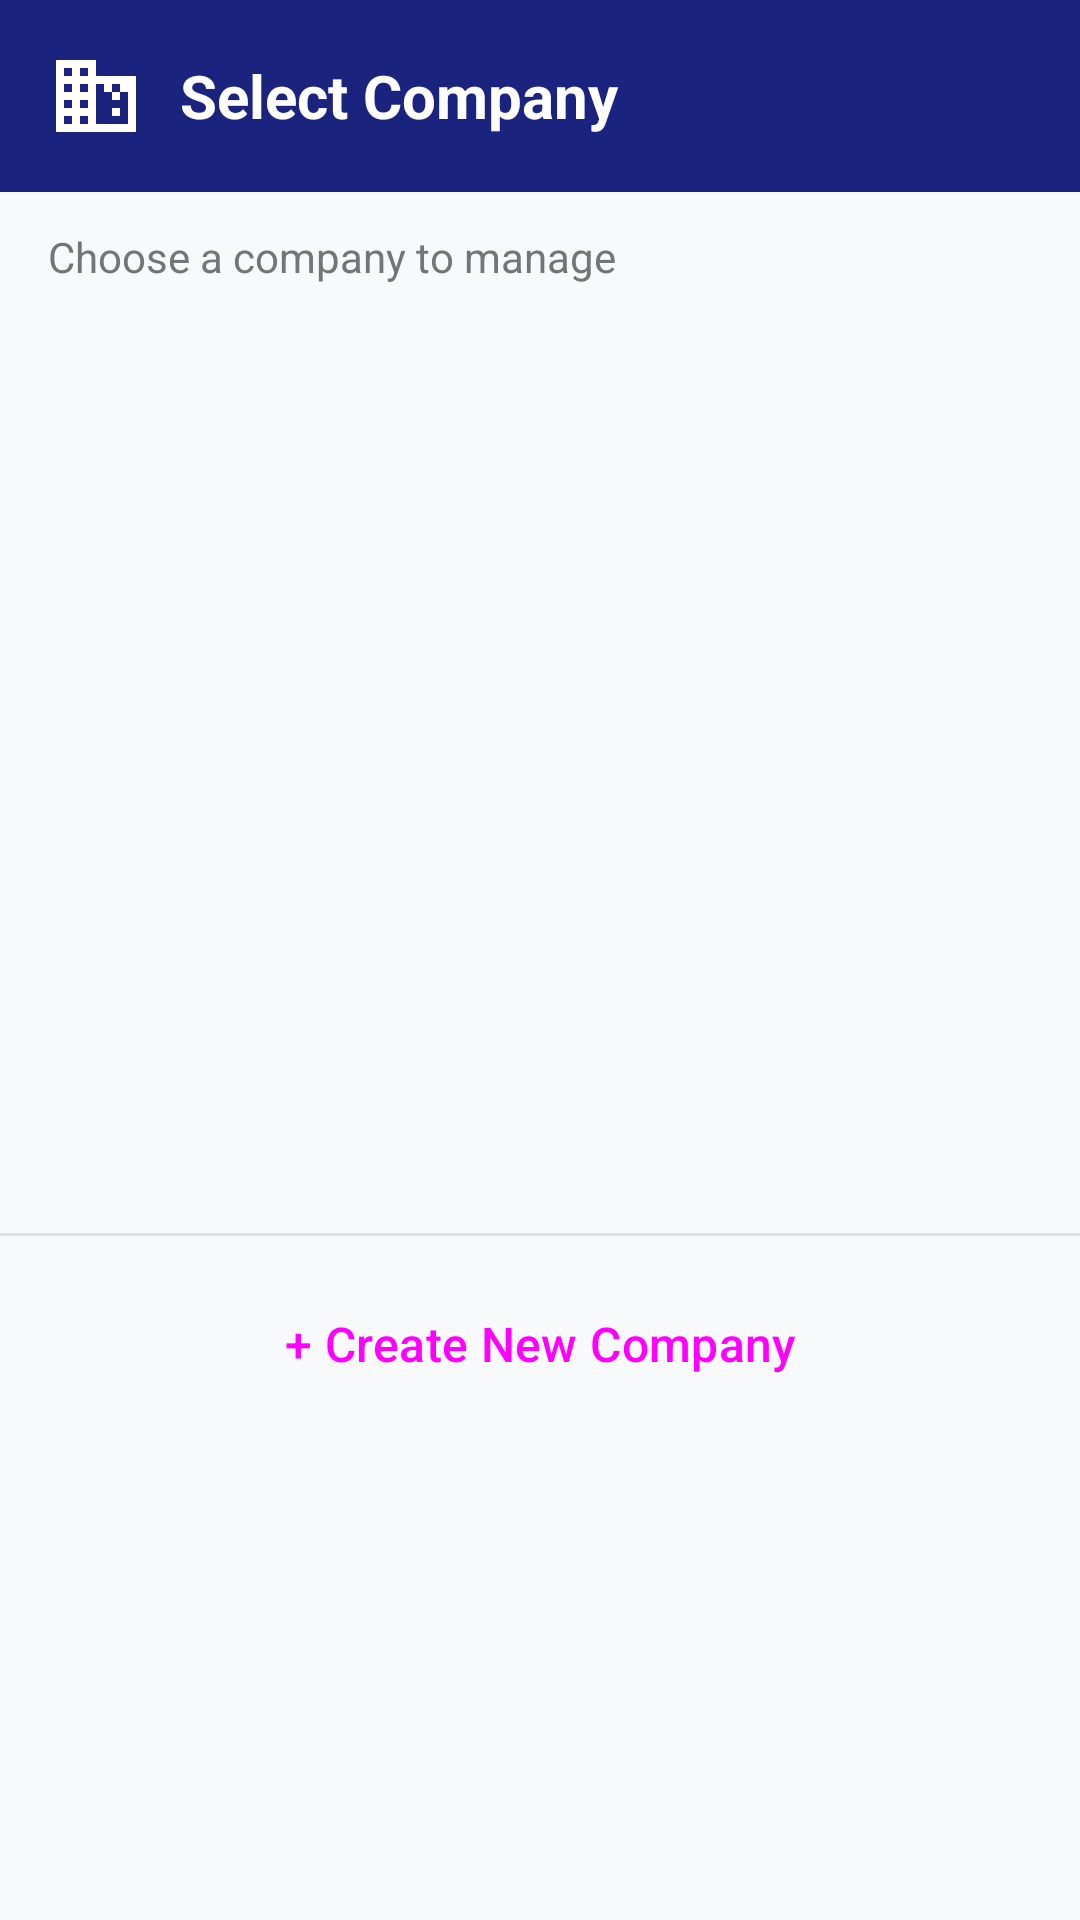

Named icons in this screenshot (1080 × 1920) and their centers, [x,y]:
business: [96,96]
